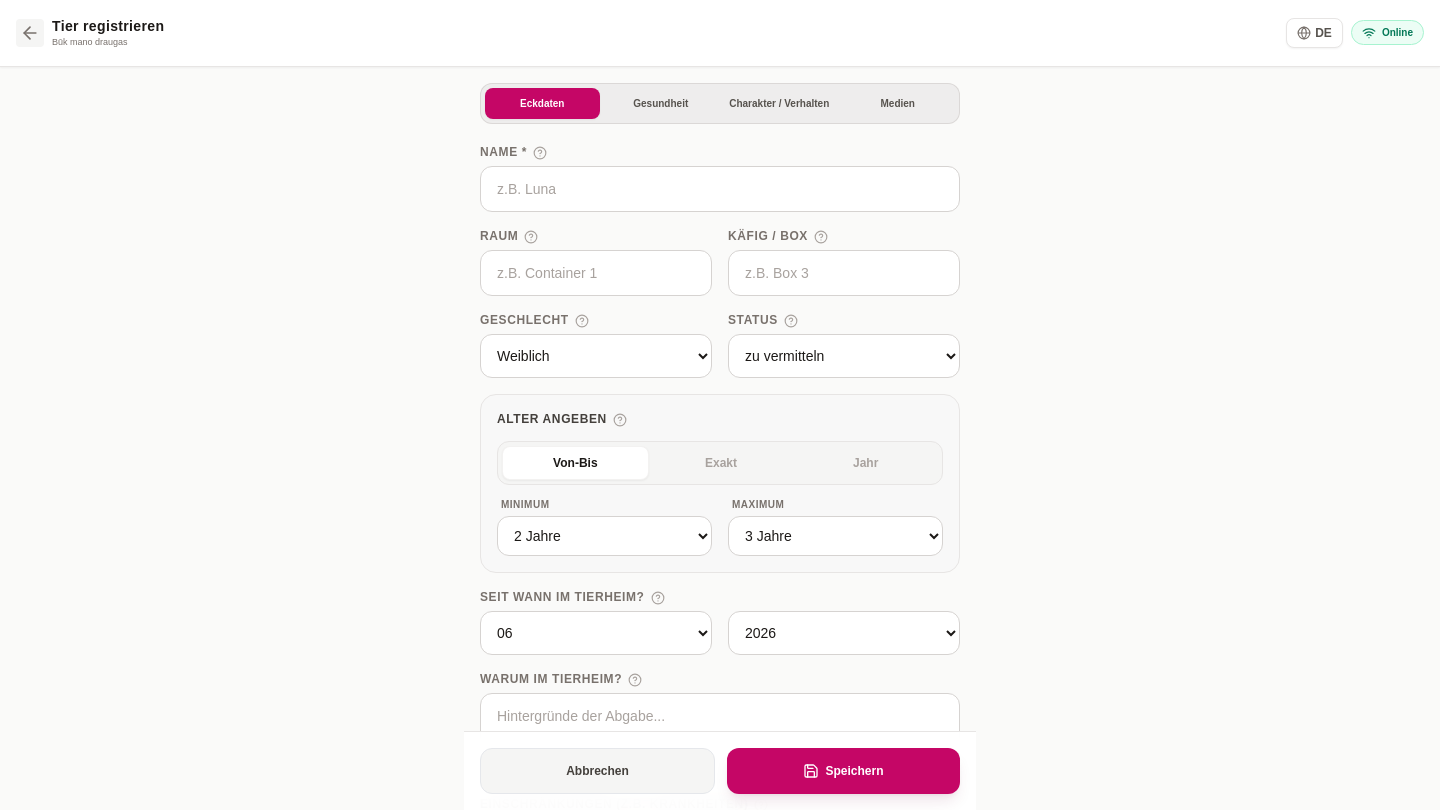
Test case: CreateCatPage Validation, Multilingual, Offline & Edge Cases › Cozy Info Buttons: switching to Medical tab and tapping help icon opens bottom sheet with medical help content
// Switch to medical tab
Click the button "Gesundheit".
click(661, 103)  # box [604,88,718,118]
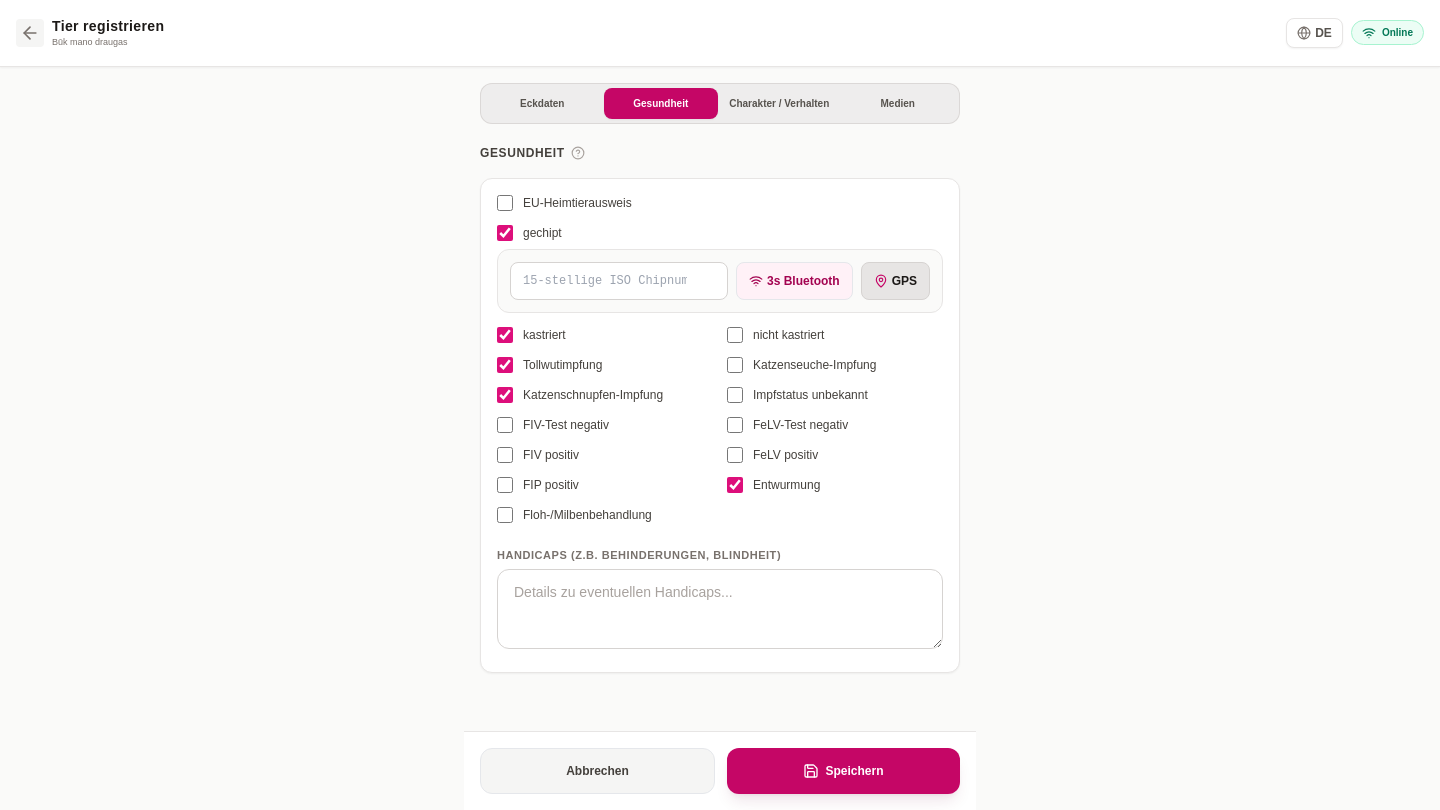
// Find help button next to "Medizinischer Status"
Click the button titled "Hilfe anzeigen".
click(578, 152)  # box [569,144,587,162]
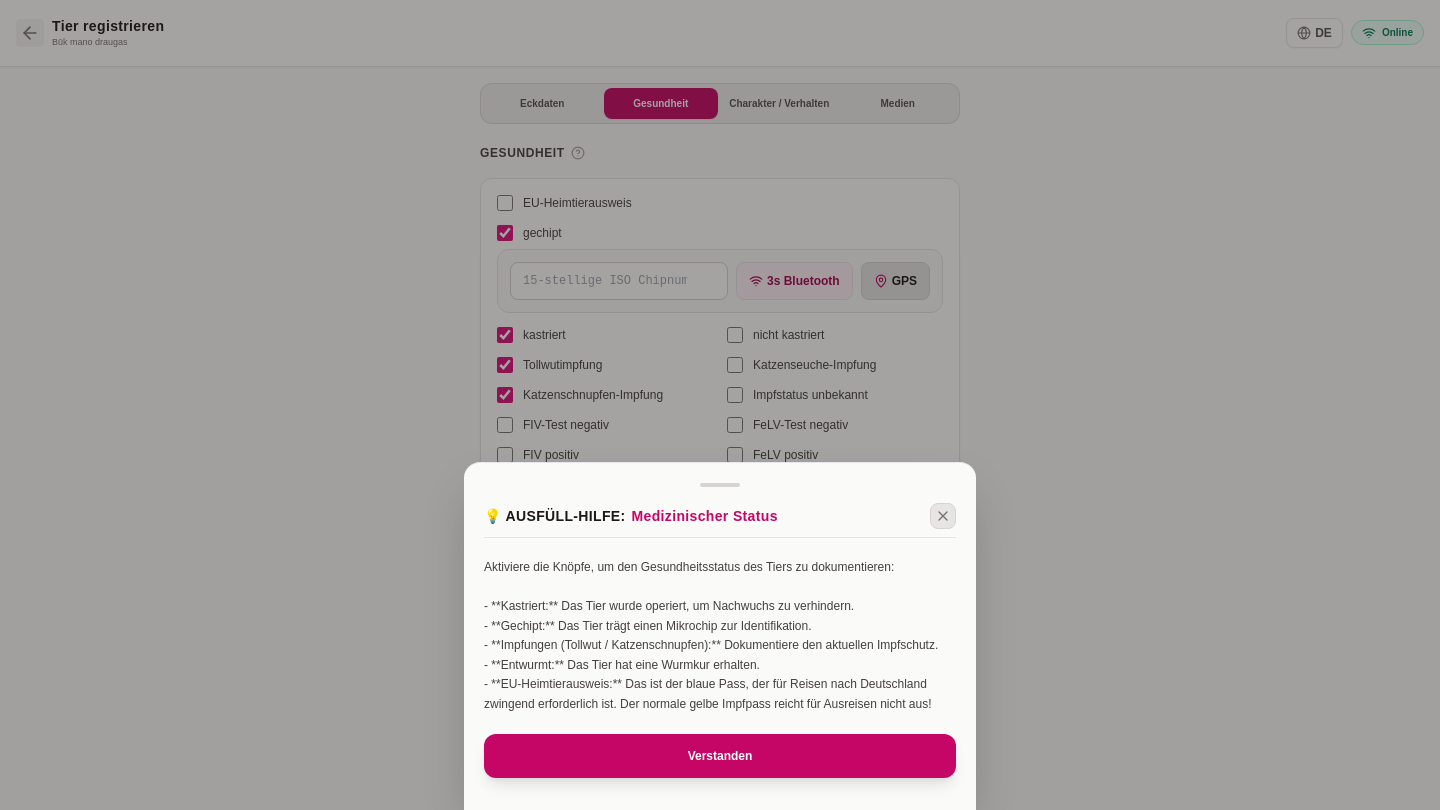
Check: the text "💡 Ausfüll-Hilfe:" is shown, box [484,506,626,526]
Check: the text "Medizinischer Status" is shown once, box [632,506,778,526]
Check: the text "Aktiviere die Knöpfe" is shown, box [484,560,938,710]
